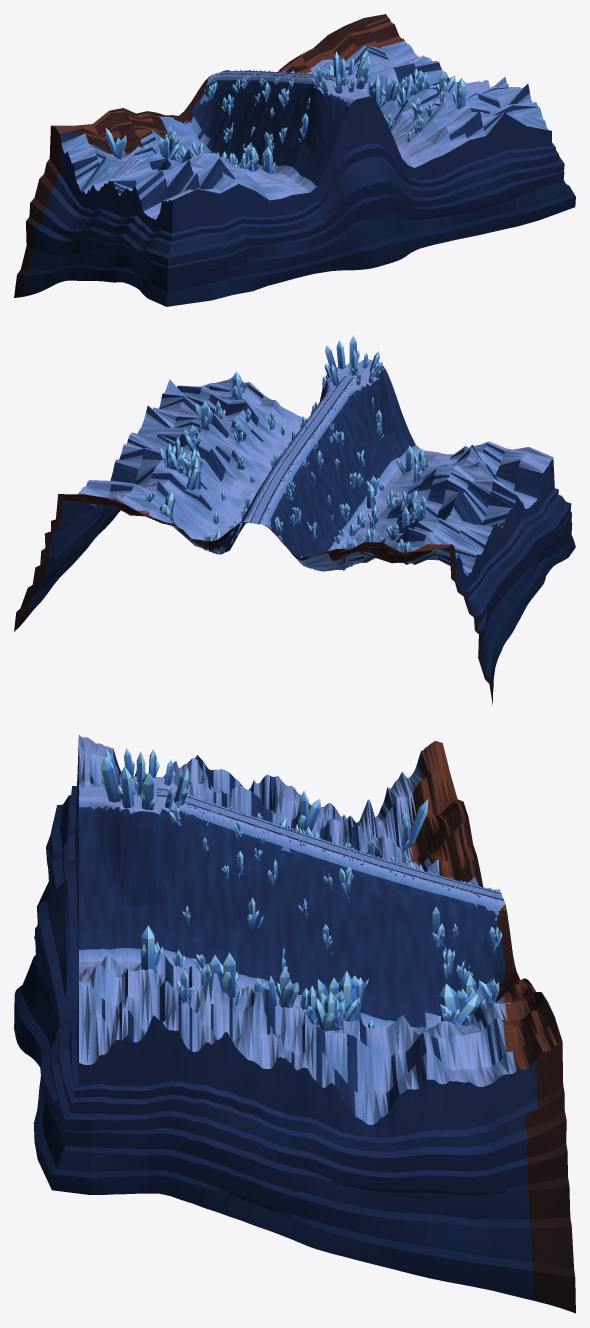
The model's file is ss_zone4.fbx.
3 renders of one model, top to bottom at view 1: azimuth 30°, elevation 25°; view 2: azimuth 150°, elevation 25°; view 3: azimuth 270°, elevation 25°, orthographic. The views are drawn at different scales.
Visible parts, largest first — view 1: Z4_Terrain_R_4000, Z4_Terrain_L_4000, Z4_Terrain_R_3000, Z4_Terrain_R_3500, Z4_Terrain_L_3000, Z4_Crystals_01, Z4_Crystals_02, Z4_Terrain_L_3500, Z4_SummitDeck, Z4_Crown, Z4_Glow; view 2: Z4_Terrain_R_3500, Z4_Terrain_L_3000, Z4_Terrain_L_3500, Z4_Terrain_R_3000, Z4_Terrain_R_4000, Z4_Crystals_01, Z4_Crystals_02, Z4_Terrain_L_4000, Z4_Crown, Z4_Glow; view 3: Z4_Terrain_L_3000, Z4_Terrain_L_3500, Z4_Terrain_L_4000, Z4_Terrain_R_3000, Z4_Crystals_01, Z4_Terrain_R_3500, Z4_Terrain_R_4000, Z4_Crystals_02, Z4_Crown, Z4_Glow, Z4_SummitDeck.
Boxes of the visible parts, box(x1,y1,x2,y2) form: Z4_Terrain_R_4000: box(122, 79, 379, 306); Z4_Terrain_L_4000: box(346, 74, 575, 264); Z4_Terrain_R_3000: box(14, 74, 273, 297); Z4_Terrain_R_3500: box(65, 75, 327, 282); Z4_Terrain_L_3000: box(223, 14, 449, 95); Z4_Crystals_01: box(105, 61, 424, 165); Z4_Crystals_02: box(192, 70, 466, 173); Z4_Terrain_L_3500: box(287, 72, 520, 143); Z4_SummitDeck: box(333, 80, 386, 266); Z4_Crown: box(312, 50, 370, 93); Z4_Glow: box(113, 69, 463, 173); Z4_Terrain_R_3500: box(299, 383, 545, 646); Z4_Terrain_L_3000: box(14, 450, 289, 631); Z4_Terrain_L_3500: box(87, 378, 339, 547); Z4_Terrain_R_3000: box(258, 453, 503, 704); Z4_Terrain_R_4000: box(350, 361, 575, 575); Z4_Crystals_01: box(146, 434, 425, 570); Z4_Crystals_02: box(184, 364, 425, 524); Z4_Terrain_L_4000: box(165, 360, 363, 445); Z4_Crown: box(324, 335, 382, 385); Z4_Glow: box(145, 366, 428, 559); Z4_Terrain_L_3000: box(337, 853, 575, 1313); Z4_Terrain_L_3500: box(170, 799, 342, 1255); Z4_Terrain_L_4000: box(15, 795, 170, 1195); Z4_Terrain_R_3000: box(332, 741, 500, 892); Z4_Crystals_01: box(297, 790, 502, 1031); Z4_Terrain_R_3500: box(170, 755, 336, 845); Z4_Terrain_R_4000: box(14, 735, 170, 1025); Z4_Crystals_02: box(140, 798, 299, 1007); Z4_Crown: box(101, 748, 190, 809); Z4_Glow: box(133, 782, 499, 1030); Z4_SummitDeck: box(14, 788, 157, 1033).
Size of the model in its own units: 2344 by 1242 by 1586.
Materials: 1 (1 with a texture image).
